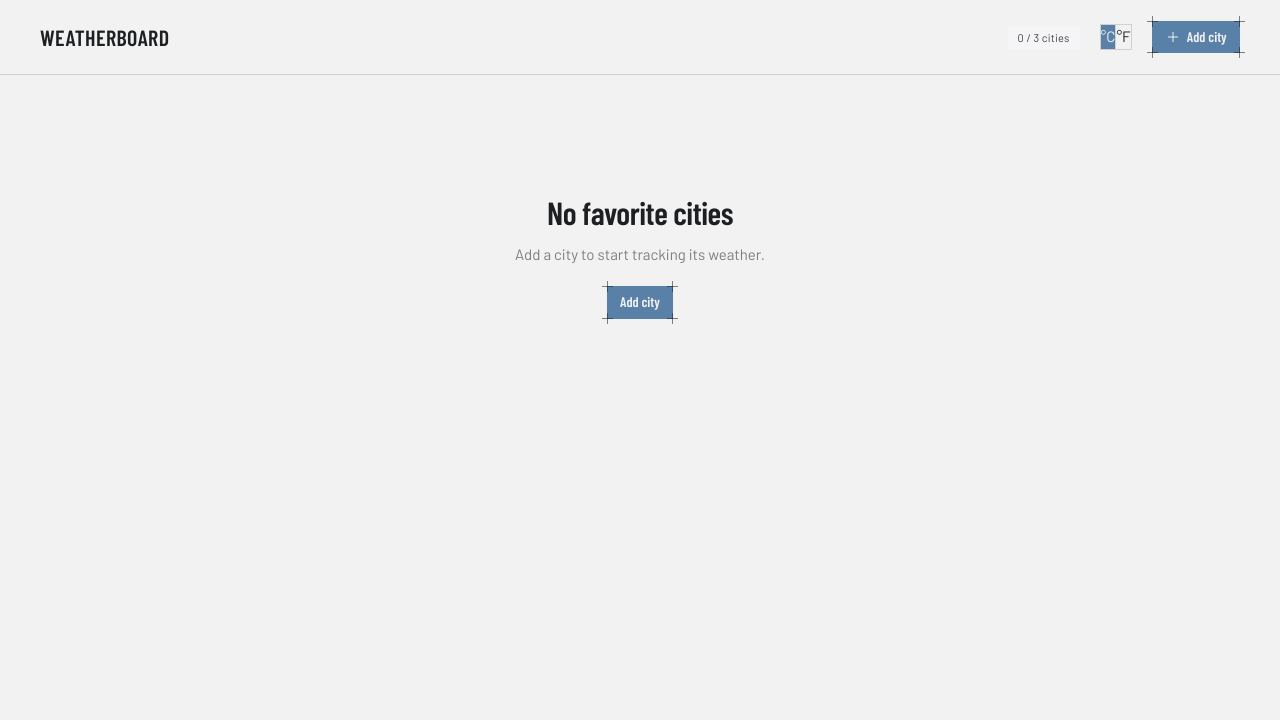
Test case: App › says so when adding a city fails
This screenshot has width=1280, height=720.
Expected: the heading "No favorite cities" is shown, [547,195,733,231]
Click the button "Add city" in the row of "WEATHERBOARD" at (1196, 37), box [1152,21,1240,53]
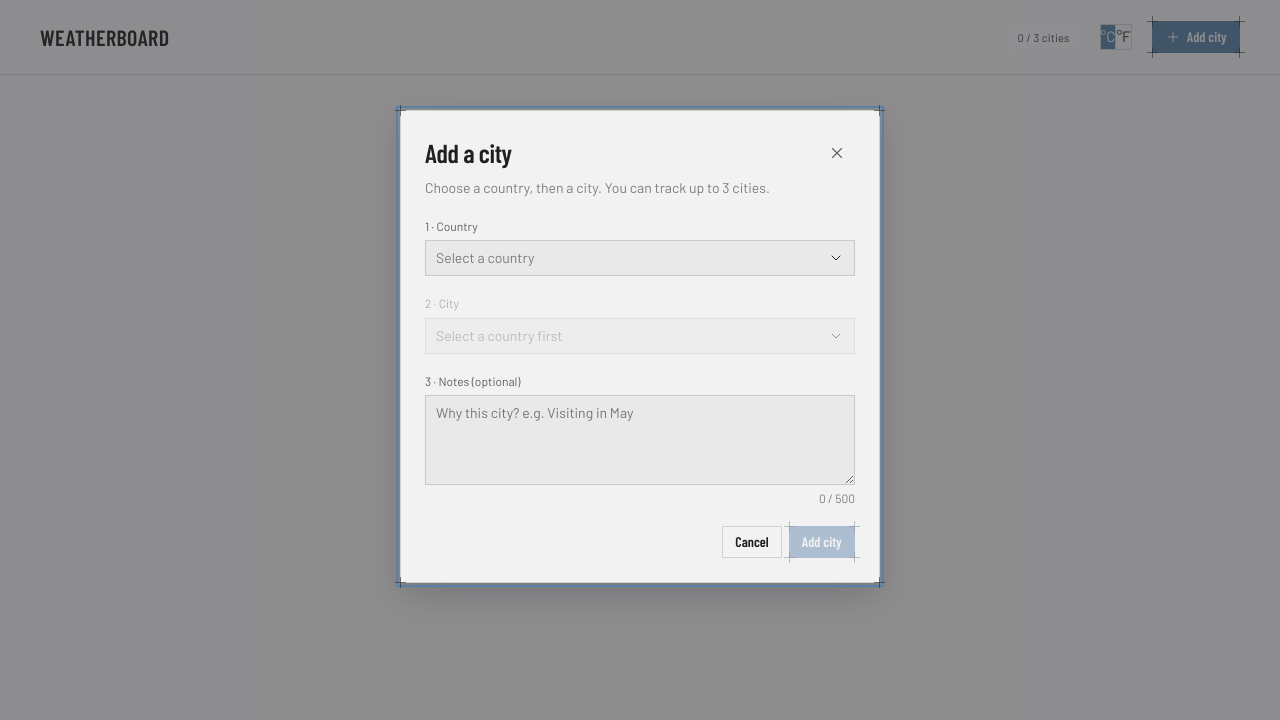
Click the button named "1 · Country" at (485, 258), box [425,240,855,276]
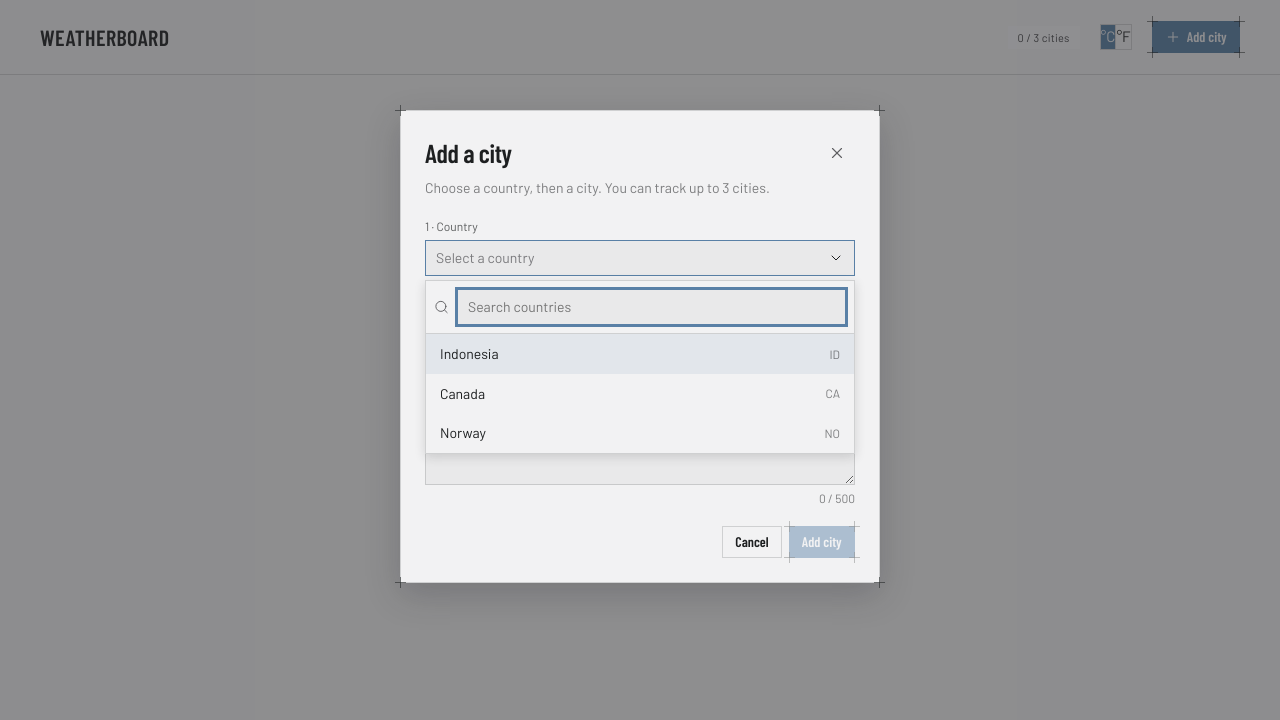
Click the option "Norway NO" at (463, 433), box [440,424,840,441]
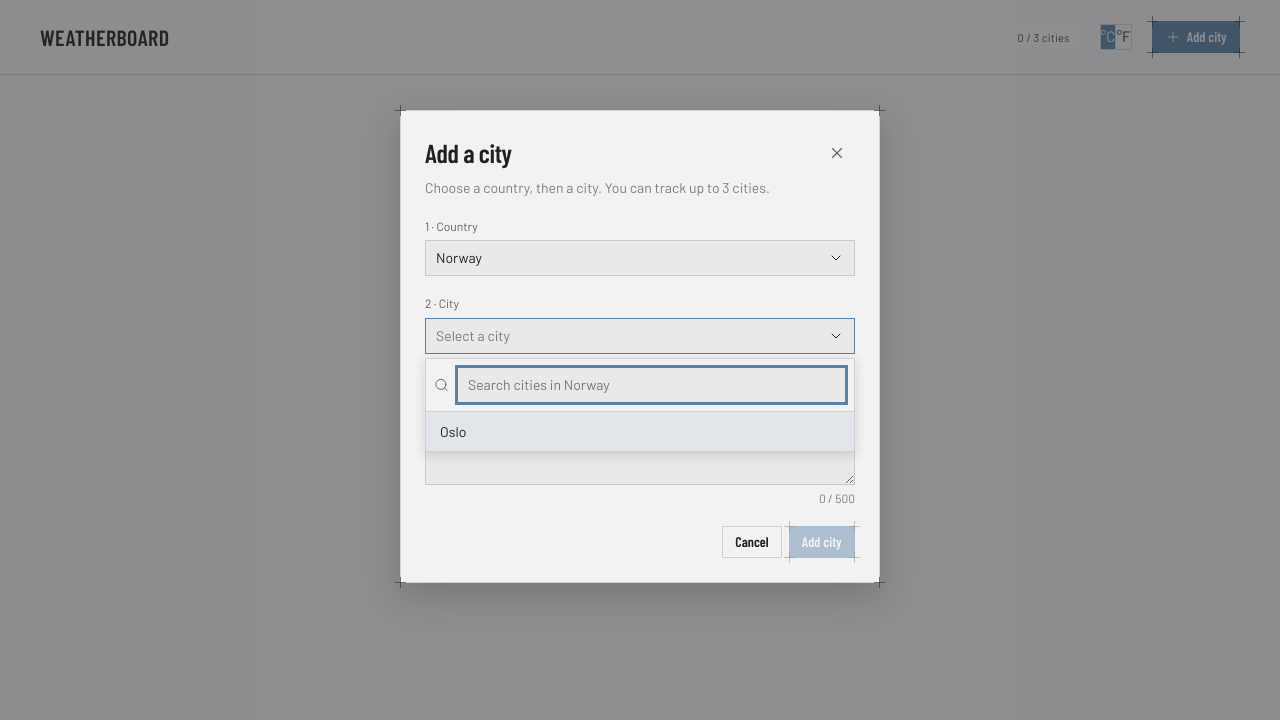
Click the option "Oslo" at (453, 431), box [426,412,854,451]
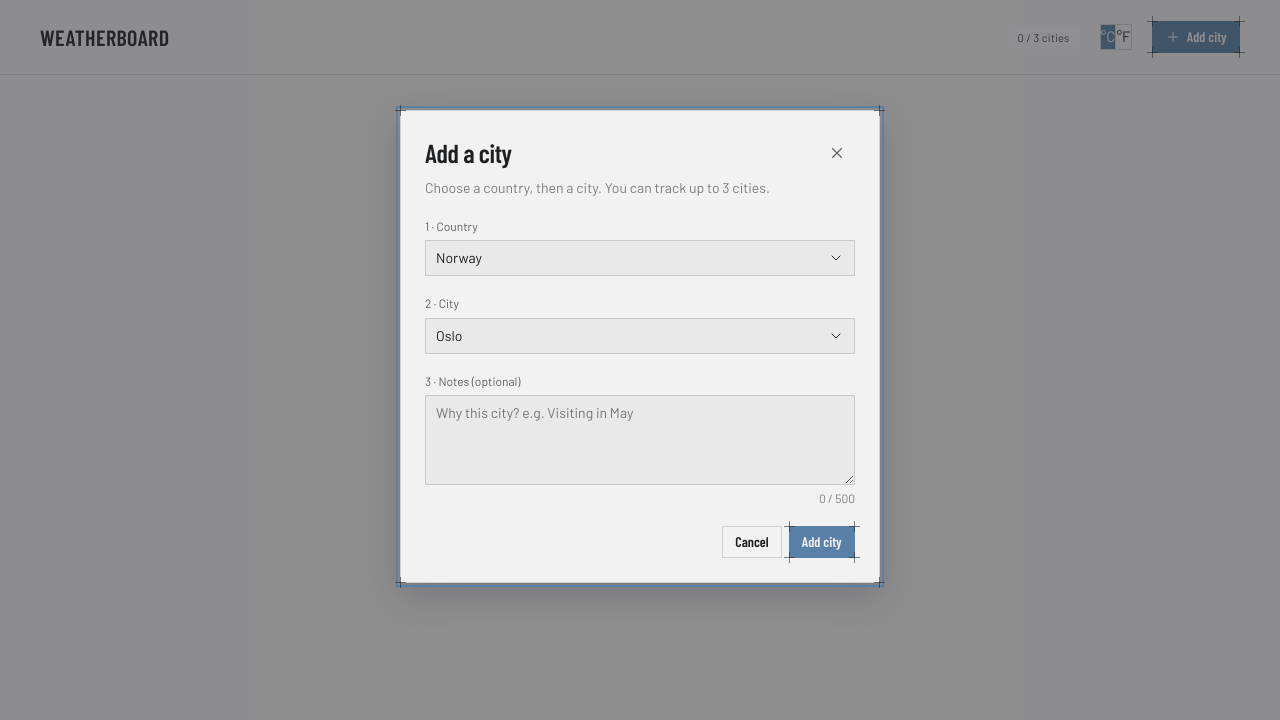
Click the button "Add city" at (822, 542), box [789,526,855,558]
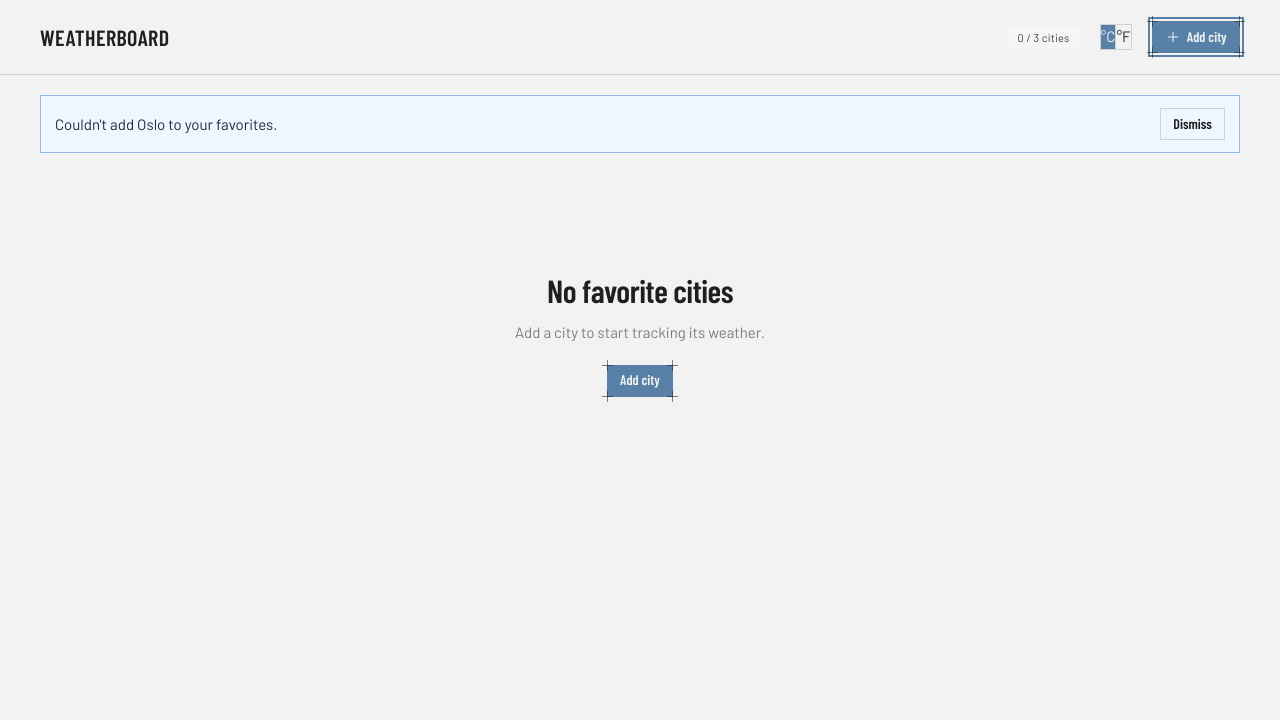
Expected: the heading "No favorite cities" is shown, [547,274,733,309]
Now the text "Couldn't add Oslo to your favorites." is shown, box [55,113,278,136]
Now the dialog is gone
